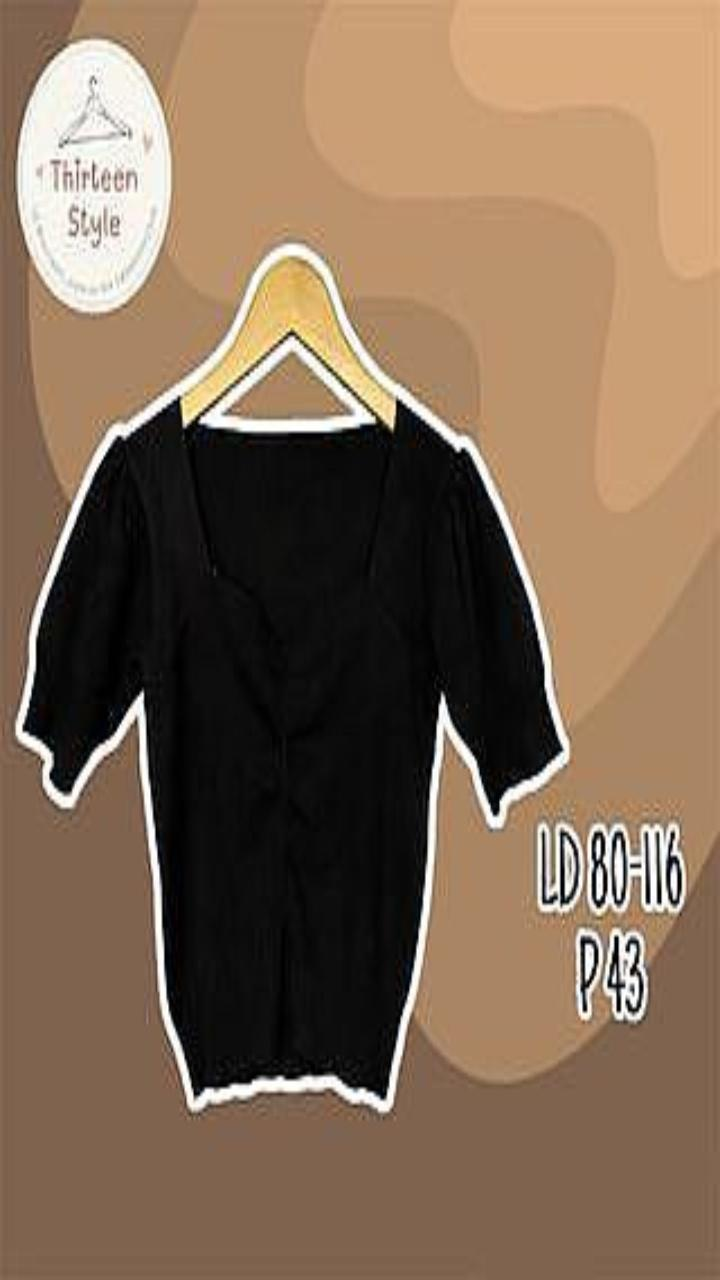T-Shirt: (18, 397, 567, 1109)
